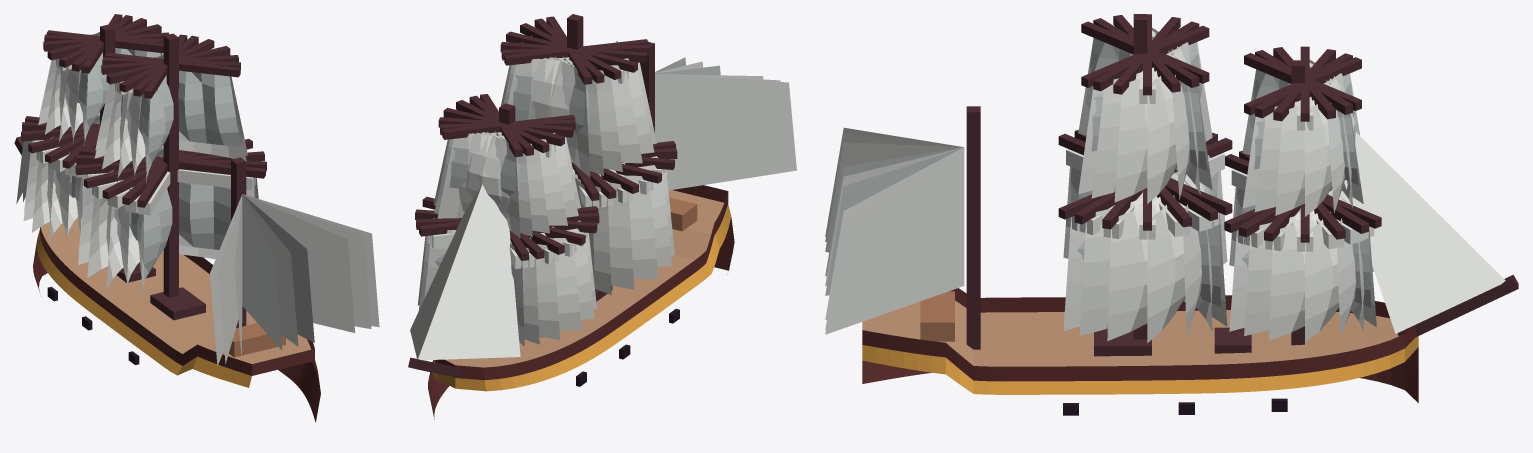
The model's file is ship.barque.glb.
The picture shows the model from 3 angles, left to right: view 1: azimuth 30°, elevation 25°; view 2: azimuth 150°, elevation 25°; view 3: azimuth 270°, elevation 25°; orthographic projection. The views are drawn at different scales.
Visible parts, largest first — view 1: hull, full_broad_p_spanker, bulwark, full_irons_s0_spanker, main, full_irons_p0_main_top, full_irons_p1_main_course, full_beam_p_spanker, full_irons_p0_spanker, full_run_spanker, full_beam_s_spanker, full_irons_p1_main_top (+59 smaller); view 2: full_close_s_spanker, hull, full_close_s_jib, bulwark, full_broad_p_main_top, full_run_main_course, full_broad_p_fore_top, full_broad_p_main_course, full_close_p_jib, full_broad_s_main_top, full_broad_s_fore_top, full_beam_p_main_top (+51 smaller); view 3: hull, full_close_p_spanker, full_close_p_jib, bulwark, full_broad_p_main_course, full_run_main_course, mizzen, full_broad_p_fore_course, full_broad_p_main_top, full_beam_p_main_course, full_run_fore_course, full_run_main_top (+50 smaller).
Boxes of the visible parts, x1,y1,x2,y2 form: hull: [33, 217, 320, 422]; full_broad_p_spanker: [243, 194, 355, 332]; bulwark: [40, 227, 314, 375]; full_irons_s0_spanker: [242, 194, 282, 350]; main: [163, 33, 178, 297]; full_irons_p0_main_top: [139, 72, 240, 147]; full_irons_p1_main_course: [108, 182, 214, 249]; full_beam_p_spanker: [244, 194, 371, 328]; full_irons_p0_spanker: [242, 194, 314, 342]; full_run_spanker: [243, 195, 298, 346]; full_beam_s_spanker: [218, 195, 242, 363]; full_irons_p1_main_top: [121, 70, 206, 143]; full_close_s_spanker: [655, 74, 796, 190]; hull: [428, 190, 734, 419]; full_close_s_jib: [418, 184, 520, 360]; bulwark: [435, 185, 728, 380]; full_broad_p_main_top: [531, 35, 622, 171]; full_run_main_course: [573, 170, 658, 279]; full_broad_p_fore_top: [467, 112, 549, 233]; full_broad_p_main_course: [574, 174, 634, 289]; full_close_p_jib: [410, 185, 481, 358]; full_broad_s_main_top: [501, 58, 654, 153]; full_broad_s_fore_top: [433, 132, 578, 217]; full_beam_p_main_top: [554, 57, 603, 175]; hull: [862, 300, 1418, 402]; full_close_p_spanker: [825, 147, 964, 334]; full_close_p_jib: [1344, 132, 1505, 333]; bulwark: [862, 288, 1416, 381]; full_broad_p_main_course: [1107, 179, 1197, 341]; full_run_main_course: [1147, 195, 1185, 342]; mizzen: [966, 106, 980, 349]; full_broad_p_fore_course: [1269, 193, 1350, 340]; full_broad_p_main_top: [1114, 31, 1181, 202]; full_beam_p_main_course: [1079, 174, 1209, 335]; full_run_fore_course: [1305, 211, 1339, 342]; full_run_main_top: [1147, 27, 1177, 203].
Size of the model in its own units: 1.02 by 1.84 by 2.99.
